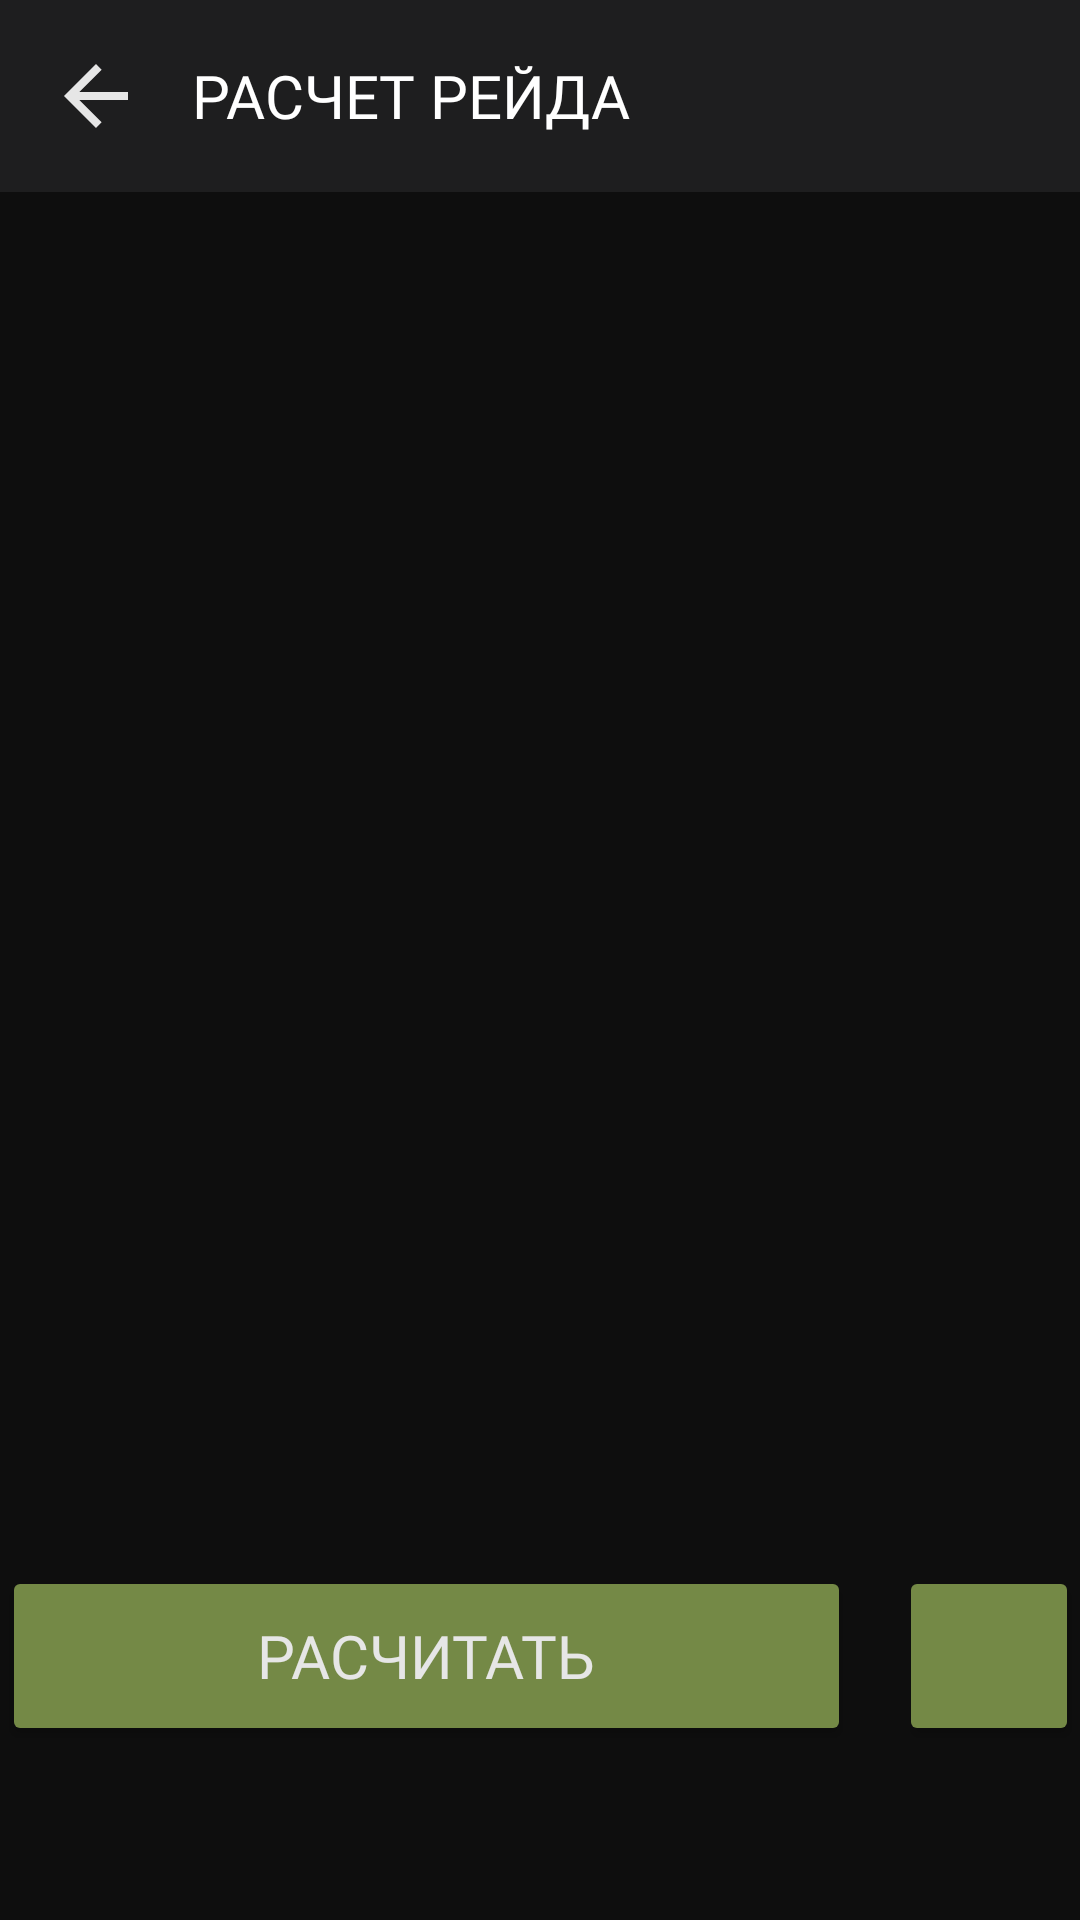

Locate icon controls on the screen. Image size 1080 × 1920, boxes as (x1, y1, x2, y2).
arrow back: (64, 64, 128, 128)
